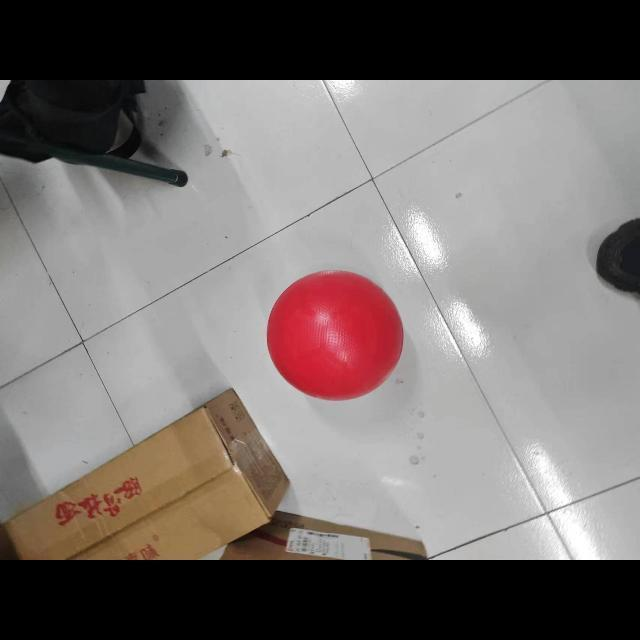R: (266, 267, 406, 405)
